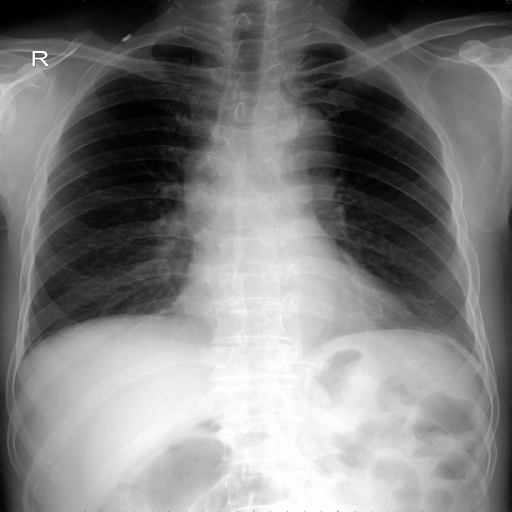Calcification: (291, 41, 355, 54)
Consolidation: (275, 107, 336, 170)
Nodule/Mass: (177, 265, 418, 339)
Other lesion: (120, 32, 133, 42)
